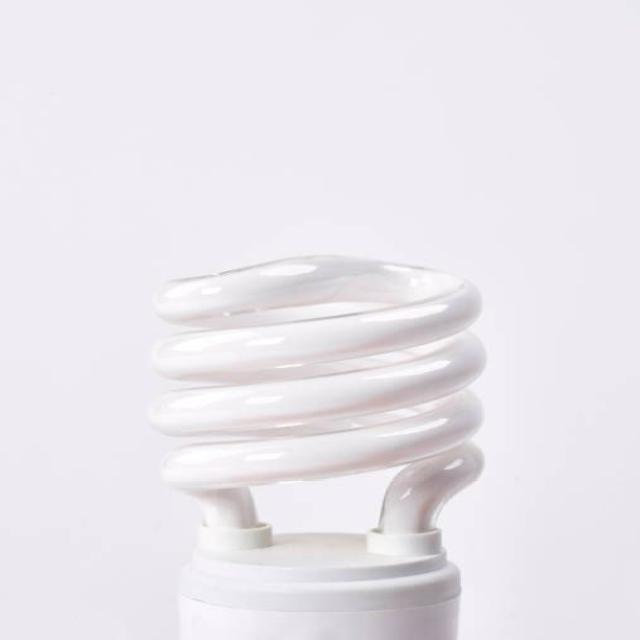electronic: (146, 252, 488, 639)
